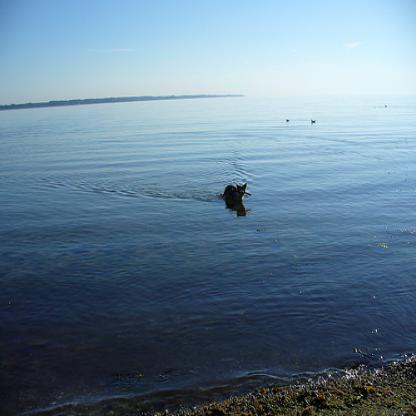dog: (219, 182, 249, 202)
